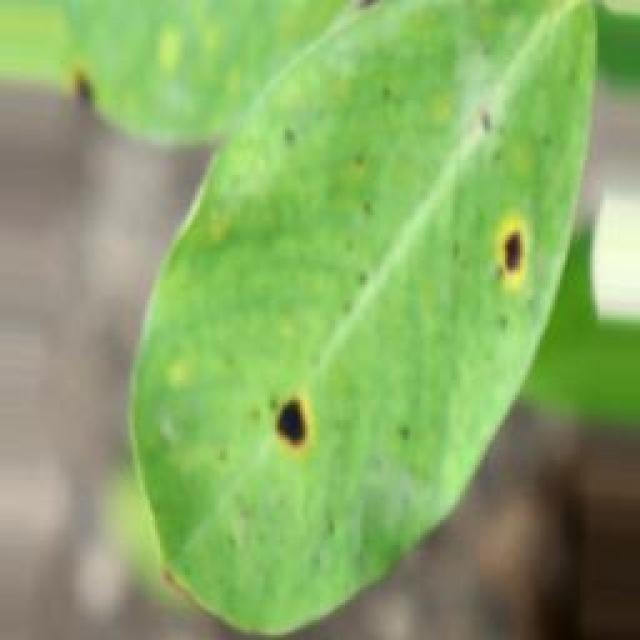Yellowish: (250, 370, 336, 476), (477, 207, 553, 323), (57, 52, 124, 124)
